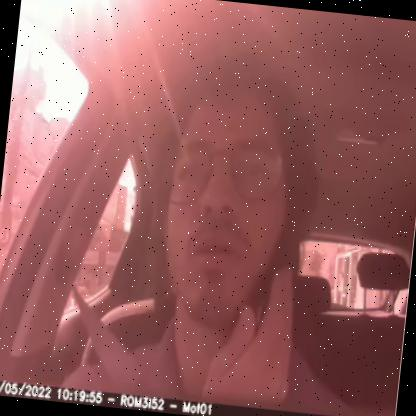phone: (244, 191, 312, 353)
